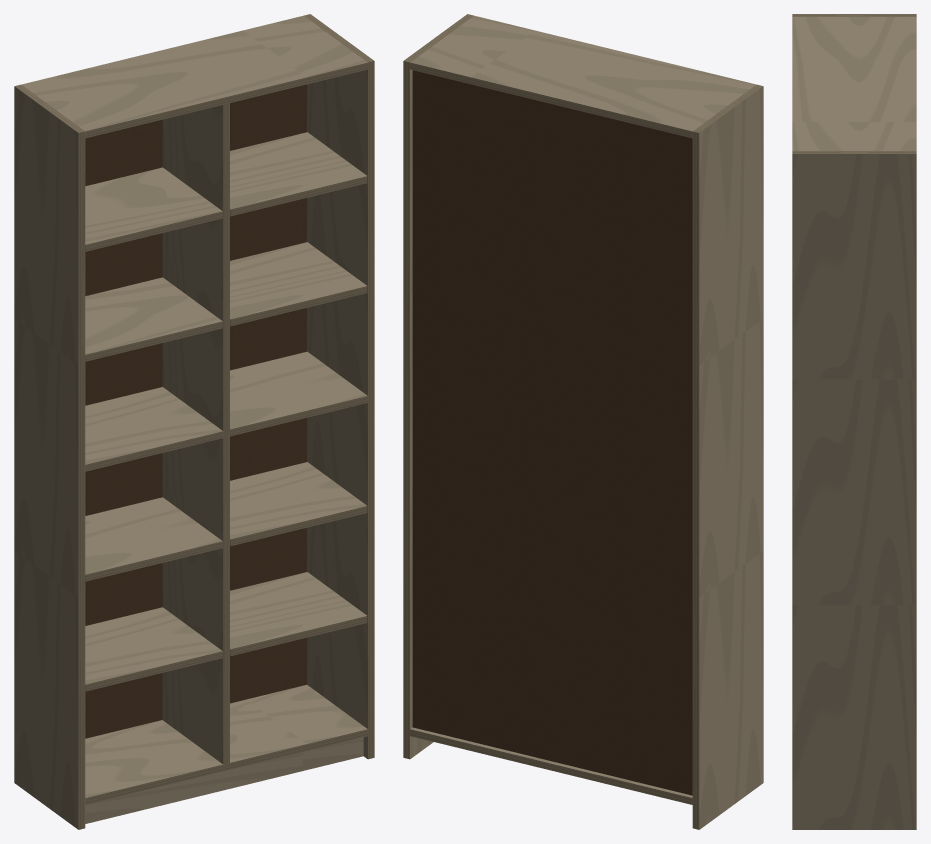
Rendered from bookshelf.glb.
3 renders of one model, left to right at view 1: azimuth 30°, elevation 25°; view 2: azimuth 150°, elevation 25°; view 3: azimuth 270°, elevation 25°, orthographic. The views are drawn at different scales.
Visible parts, largest first — view 1: side-l:sheet:eyJtIjoicGx5Iiwic2lkZSI6ImZhY2UiLCJzZWVkIjoxLCJ, back:sheet:eyJtIjoibWRmIiwic2lkZSI6ImZhY2UiLCJzZWVkIjo0LCJ0a, partition:sheet:eyJtIjoicGx5Iiwic2lkZSI6ImZhY2UiLCJzZWVkIjo0, side-r:sheet:eyJtIjoicGx5Iiwic2lkZSI6ImZhY2UiLCJzZWVkIjozLCJ, top:sheet:eyJtIjoicGx5Iiwic2lkZSI6ImZhY2UiLCJzZWVkIjo2LCJ2ZW, bottom:sheet:eyJtIjoicGx5Iiwic2lkZSI6ImZhY2UiLCJzZWVkIjowLCJ, shelf-fixedl:sheet:eyJtIjoicGx5Iiwic2lkZSI6ImZhY2UiLCJzZWVkI, shelf-fixedr:sheet:eyJtIjoicGx5Iiwic2lkZSI6ImZhY2UiLCJzZWVkI, shelf-1:sheet:eyJtIjoicGx5Iiwic2lkZSI6ImZhY2UiLCJzZWVkIjoyLC, shelf-3:sheet:eyJtIjoicGx5Iiwic2lkZSI6ImZhY2UiLCJzZWVkIjoxLC, shelf-5:sheet:eyJtIjoicGx5Iiwic2lkZSI6ImZhY2UiLCJzZWVkIjo2LC, shelf-7:sheet:eyJtIjoicGx5Iiwic2lkZSI6ImZhY2UiLCJzZWVkIjo0LC (+20 smaller); view 2: back:sheet:eyJtIjoibWRmIiwic2lkZSI6ImZhY2UiLCJzZWVkIjo0LCJ0a, side-l:sheet:eyJtIjoicGx5Iiwic2lkZSI6ImZhY2UiLCJzZWVkIjoxLCJ, top:sheet:eyJtIjoicGx5Iiwic2lkZSI6ImZhY2UiLCJzZWVkIjo2LCJ2ZW, side-l:sheet:eyJtIjoicGx5Iiwic2lkZSI6ImVkZ2UtbG9uZyIsInNlZWQ, side-r:sheet:eyJtIjoicGx5Iiwic2lkZSI6ImVkZ2UtbG9uZyIsInNlZWQ, side-r:sheet:eyJtIjoicGx5Iiwic2lkZSI6ImZhY2UiLCJzZWVkIjozLCJ, top:sheet:eyJtIjoicGx5Iiwic2lkZSI6ImVkZ2UtbG9uZyIsInNlZWQiOj, bottom:sheet:eyJtIjoicGx5Iiwic2lkZSI6ImVkZ2UtbG9uZyIsInNlZWQ, bottom:sheet:eyJtIjoicGx5Iiwic2lkZSI6ImZhY2UiLCJzZWVkIjowLCJ; view 3: side-r:sheet:eyJtIjoicGx5Iiwic2lkZSI6ImZhY2UiLCJzZWVkIjozLCJ, top:sheet:eyJtIjoicGx5Iiwic2lkZSI6ImZhY2UiLCJzZWVkIjo2LCJ2ZW, side-l:sheet:eyJtIjoicGx5Iiwic2lkZSI6ImVkZ2UtZW5kIiwic2VlZCI, side-r:sheet:eyJtIjoicGx5Iiwic2lkZSI6ImVkZ2UtZW5kIiwic2VlZCI.
Boxes of the visible parts, x1,y1,x2,y2 form: side-l:sheet:eyJtIjoicGx5Iiwic2lkZSI6ImZhY2UiLCJzZWVkIjoxLCJ: (14,86,78,829); back:sheet:eyJtIjoibWRmIiwic2lkZSI6ImZhY2UiLCJzZWVkIjo0LCJ0a: (85,84,306,738); partition:sheet:eyJtIjoicGx5Iiwic2lkZSI6ImZhY2UiLCJzZWVkIjo0: (162,105,223,763); side-r:sheet:eyJtIjoicGx5Iiwic2lkZSI6ImZhY2UiLCJzZWVkIjozLCJ: (307,69,367,758); top:sheet:eyJtIjoicGx5Iiwic2lkZSI6ImZhY2UiLCJzZWVkIjo2LCJ2ZW: (21,15,367,131); bottom:sheet:eyJtIjoicGx5Iiwic2lkZSI6ImZhY2UiLCJzZWVkIjowLCJ: (85,685,367,797); shelf-fixedl:sheet:eyJtIjoicGx5Iiwic2lkZSI6ImZhY2UiLCJzZWVkI: (85,387,222,464); shelf-fixedr:sheet:eyJtIjoicGx5Iiwic2lkZSI6ImZhY2UiLCJzZWVkI: (230,351,367,429); shelf-1:sheet:eyJtIjoicGx5Iiwic2lkZSI6ImZhY2UiLCJzZWVkIjoyLC: (85,607,222,684); shelf-3:sheet:eyJtIjoicGx5Iiwic2lkZSI6ImZhY2UiLCJzZWVkIjoxLC: (85,497,222,574); shelf-5:sheet:eyJtIjoicGx5Iiwic2lkZSI6ImZhY2UiLCJzZWVkIjo2LC: (85,277,222,354); shelf-7:sheet:eyJtIjoicGx5Iiwic2lkZSI6ImZhY2UiLCJzZWVkIjo0LC: (85,167,222,244); back:sheet:eyJtIjoibWRmIiwic2lkZSI6ImZhY2UiLCJzZWVkIjo0LCJ0a: (412,70,692,795); side-l:sheet:eyJtIjoicGx5Iiwic2lkZSI6ImZhY2UiLCJzZWVkIjoxLCJ: (699,86,763,829); top:sheet:eyJtIjoicGx5Iiwic2lkZSI6ImZhY2UiLCJzZWVkIjo2LCJ2ZW: (410,15,756,131); side-l:sheet:eyJtIjoicGx5Iiwic2lkZSI6ImVkZ2UtbG9uZyIsInNlZWQ: (692,131,699,829); side-r:sheet:eyJtIjoicGx5Iiwic2lkZSI6ImVkZ2UtbG9uZyIsInNlZWQ: (403,61,409,759); side-r:sheet:eyJtIjoicGx5Iiwic2lkZSI6ImZhY2UiLCJzZWVkIjozLCJ: (410,69,433,758); top:sheet:eyJtIjoicGx5Iiwic2lkZSI6ImVkZ2UtbG9uZyIsInNlZWQiOj: (410,62,692,138); bottom:sheet:eyJtIjoicGx5Iiwic2lkZSI6ImVkZ2UtbG9uZyIsInNlZWQ: (410,729,692,804); bottom:sheet:eyJtIjoicGx5Iiwic2lkZSI6ImZhY2UiLCJzZWVkIjowLCJ: (410,727,692,797); side-r:sheet:eyJtIjoicGx5Iiwic2lkZSI6ImZhY2UiLCJzZWVkIjozLCJ: (792,154,916,829); top:sheet:eyJtIjoicGx5Iiwic2lkZSI6ImZhY2UiLCJzZWVkIjo2LCJ2ZW: (792,17,916,150); side-l:sheet:eyJtIjoicGx5Iiwic2lkZSI6ImVkZ2UtZW5kIiwic2VlZCI: (792,14,916,16); side-r:sheet:eyJtIjoicGx5Iiwic2lkZSI6ImVkZ2UtZW5kIiwic2VlZCI: (792,151,916,153).
Bounding box in the file's own units: 0.8 × 1.8 × 0.3.
Materials: 147 (51 with a texture image).
